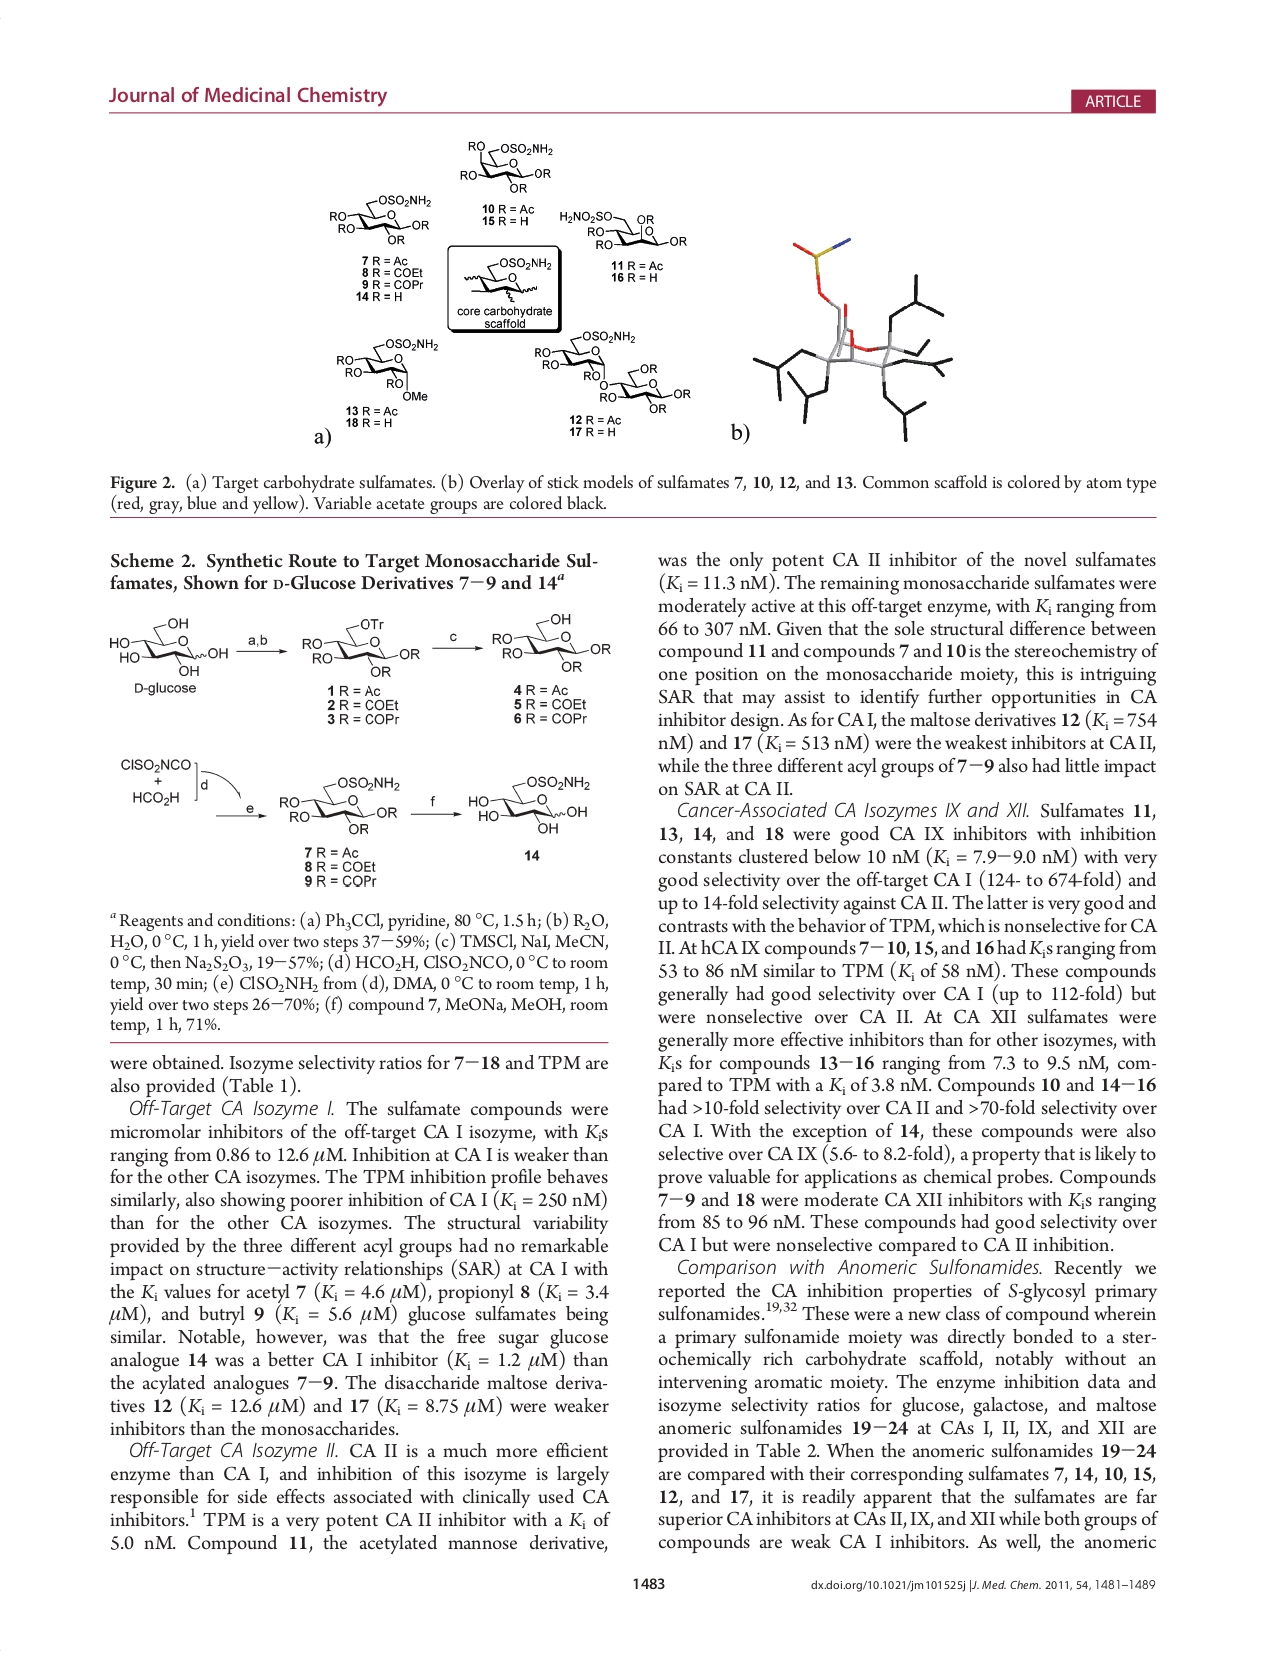exist_molecular: (533, 330, 698, 415), (464, 763, 590, 836), (487, 608, 610, 680), (298, 614, 422, 684), (277, 773, 404, 839), (108, 614, 230, 678), (334, 334, 439, 403), (449, 136, 557, 197), (557, 205, 689, 253), (326, 189, 434, 247)
